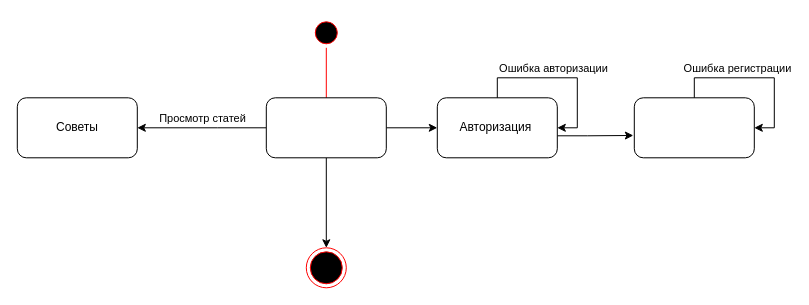
The diagram is 809 pixels wide and 305 high, and some of its shapes have lost their labels. Here are the shapes that lost their labels. From the top down, the box of each, then its label:
(265, 97, 386, 158): Главная страница
(633, 97, 754, 158): Регистрация
